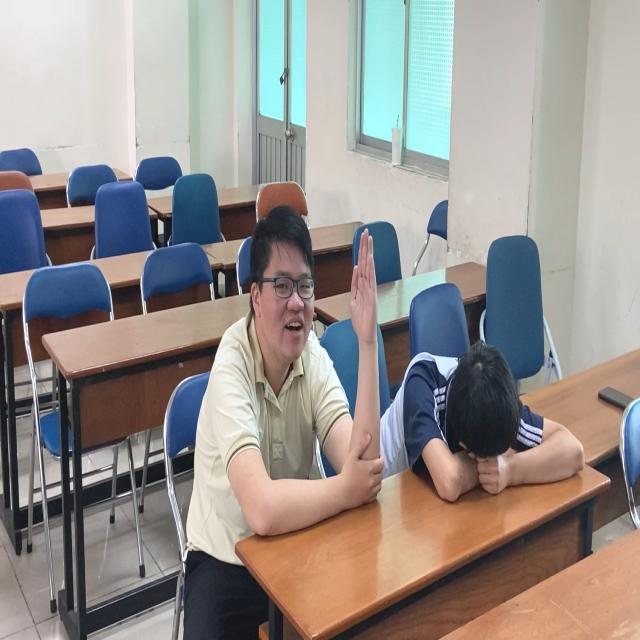raise_hand: (193, 198, 387, 532)
sleep: (402, 332, 595, 515)
